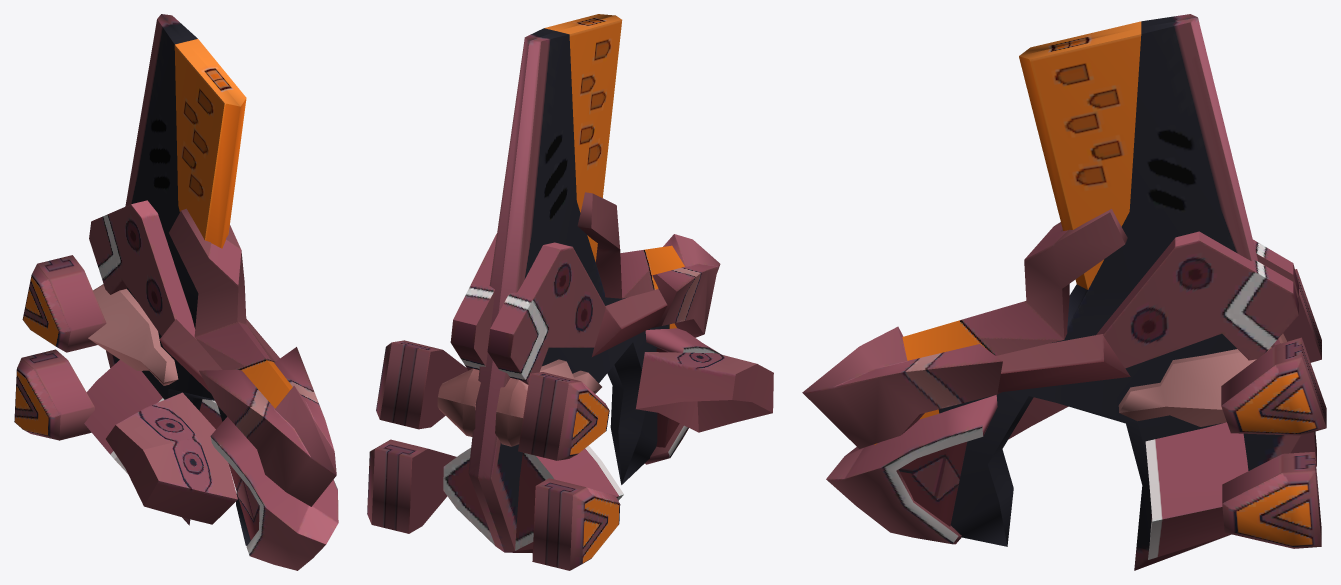
File: _Eva_Part_armorARM_L.fbx
The picture shows the model from 3 angles, left to right: view 1: azimuth 30°, elevation 25°; view 2: azimuth 150°, elevation 25°; view 3: azimuth 270°, elevation 25°; orthographic projection. The views are drawn at different scales.
Visible parts, largest first — view 1: _Eva_Part_armorARM_L; view 2: _Eva_Part_armorARM_L; view 3: _Eva_Part_armorARM_L.
Boxes of the visible parts, left/top/right/bottom form: _Eva_Part_armorARM_L: left=14, top=14, right=338, bottom=570; _Eva_Part_armorARM_L: left=367, top=14, right=773, bottom=570; _Eva_Part_armorARM_L: left=802, top=14, right=1326, bottom=570.
Bounding box in the file's own units: 0.00603 × 0.013 × 0.0111.
